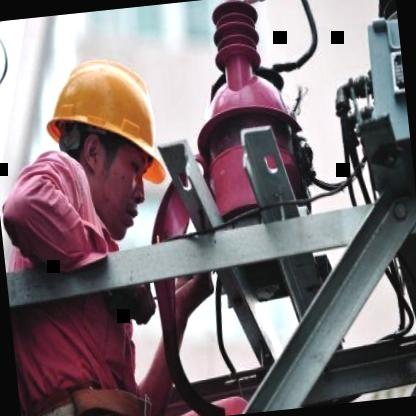helmet: (31, 36, 184, 242)
